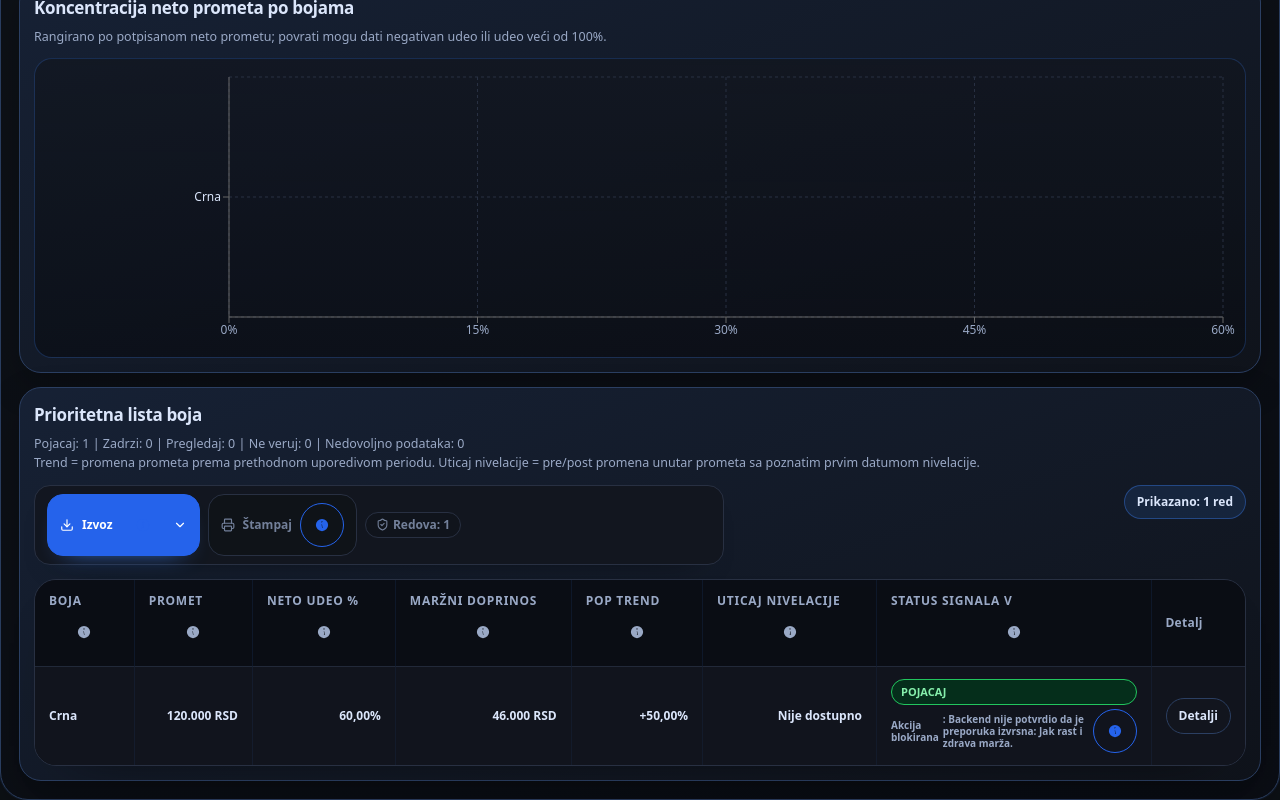
Test: ColorSalesStatsPage premium controls › keeps valid raw pre/post detail metrics visible when impact percent is unavailable
The width and height of the screenshot is (1280, 800).
(page scrolled)
Expected: the row that starts with "Crna" is shown, [35,666,1245,765]
Click the button "Detalji" at (1198, 716), box [1166,698,1231,734]
(page scrolled)
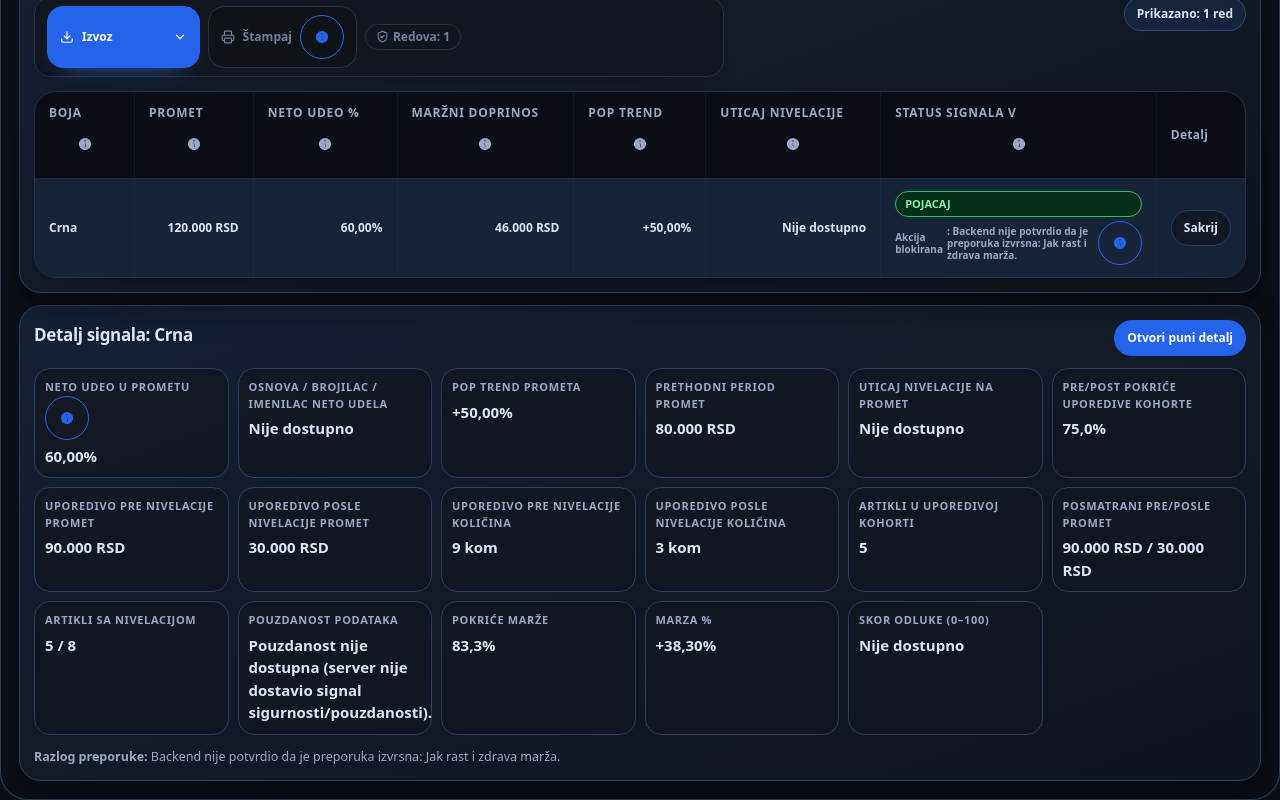
Now the element "Detalj signala: Crna" is shown, box [19,305,1261,781]
